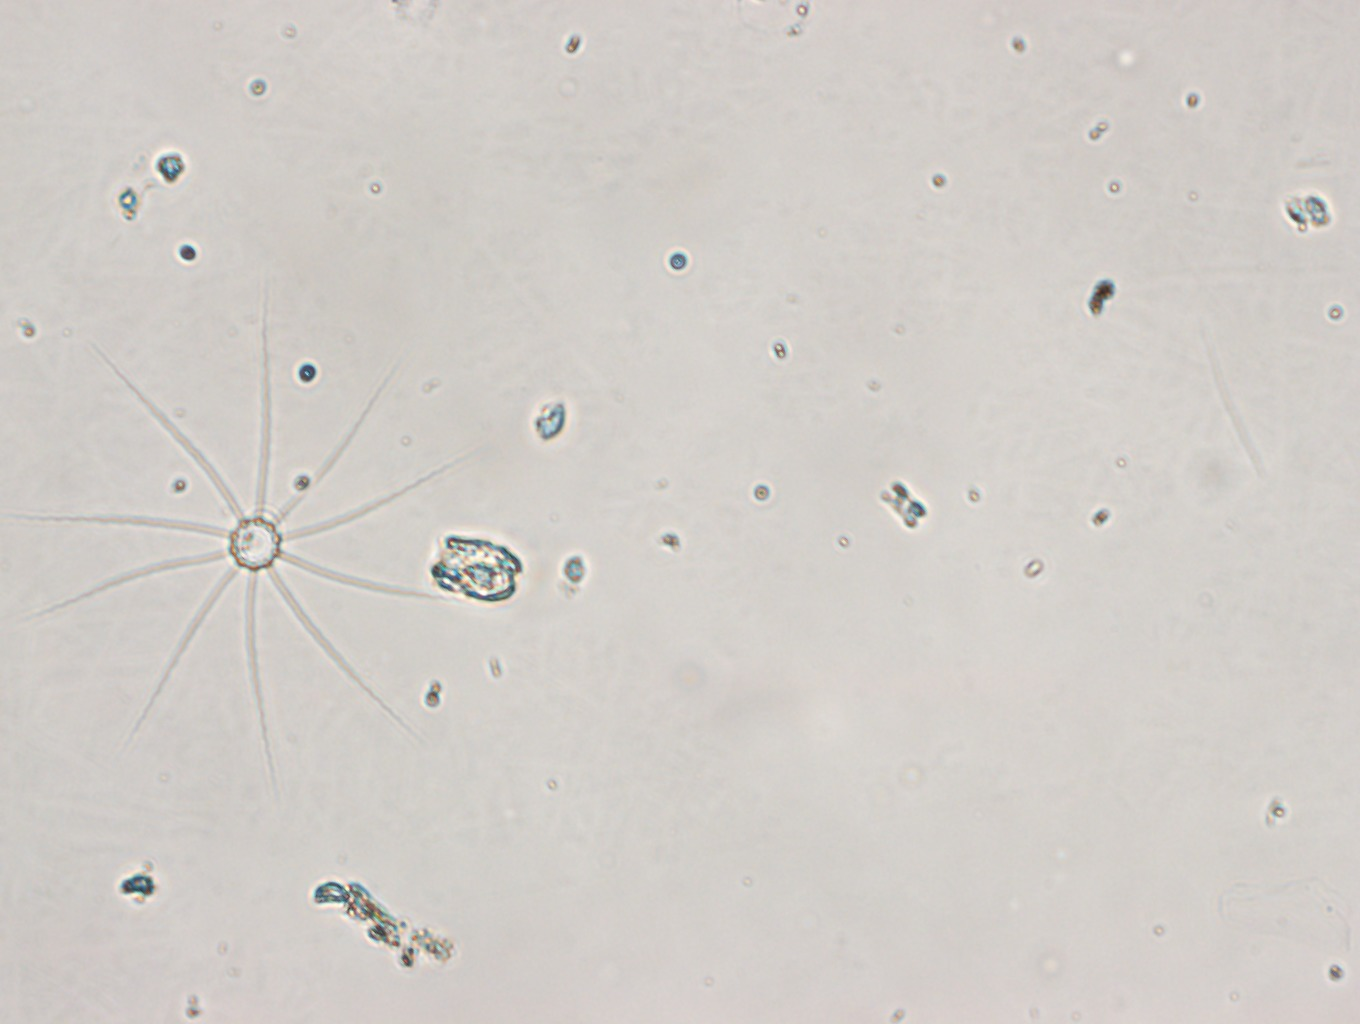bacteriastrum: (44, 309, 454, 753)
